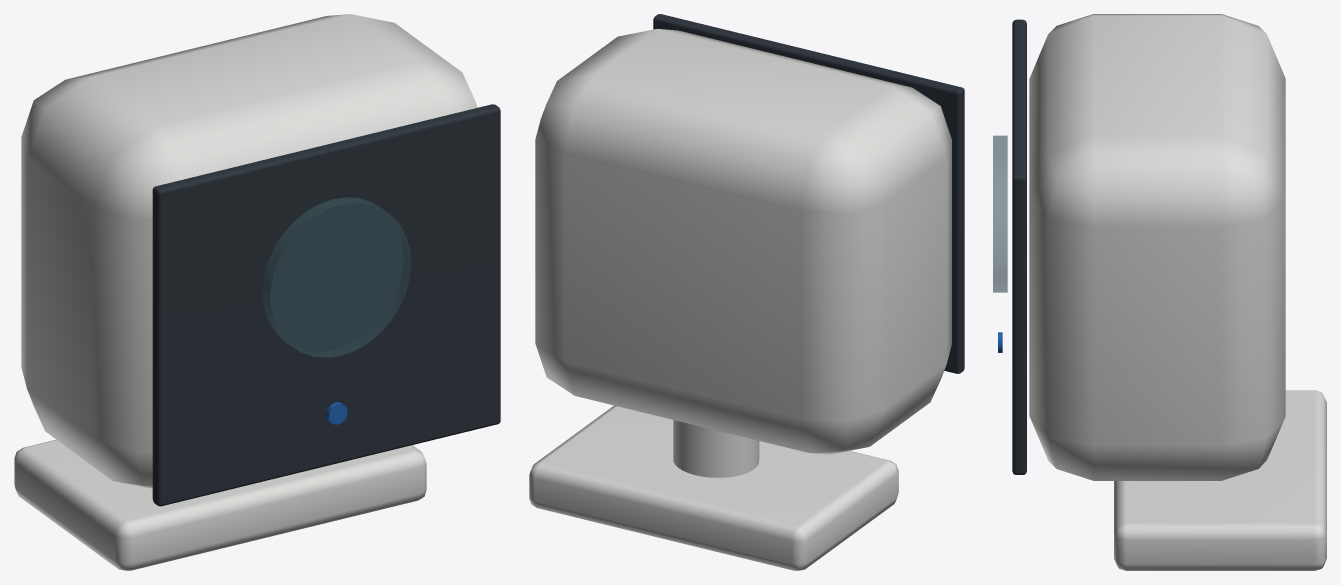
File: unifi-g6-instant.glb
The picture shows the model from 3 angles, left to right: view 1: azimuth 30°, elevation 25°; view 2: azimuth 150°, elevation 25°; view 3: azimuth 270°, elevation 25°; orthographic projection. The views are drawn at different scales.
Parts seen in each view (by area): view 1: catalog_surface_RealismUV, catalog_surface_UVMap; view 2: catalog_surface_RealismUV; view 3: catalog_surface_RealismUV, catalog_surface_UVMap.
Boxes of the visible parts, x1,y1,x2,y2 form: catalog_surface_RealismUV: [14, 14, 500, 570]; catalog_surface_UVMap: [262, 197, 411, 357]; catalog_surface_RealismUV: [529, 14, 964, 570]; catalog_surface_RealismUV: [998, 14, 1326, 570]; catalog_surface_UVMap: [993, 135, 1007, 292].
Size of the model in its own units: 0.082 by 0.092 by 0.065.
